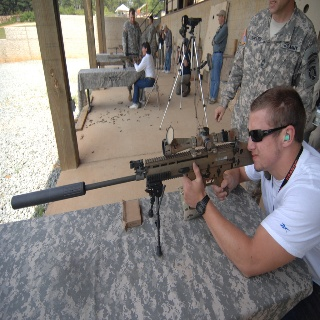rifle: (9, 126, 255, 259)
